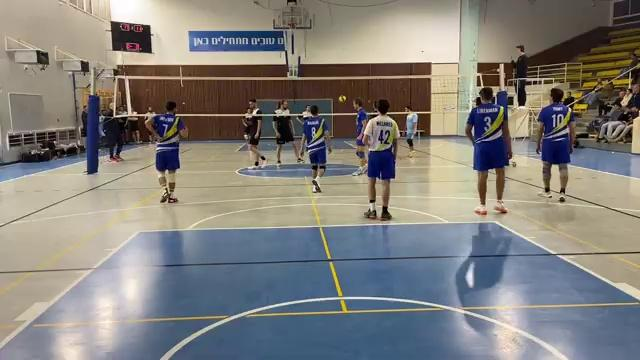ball: (338, 94, 347, 104)
